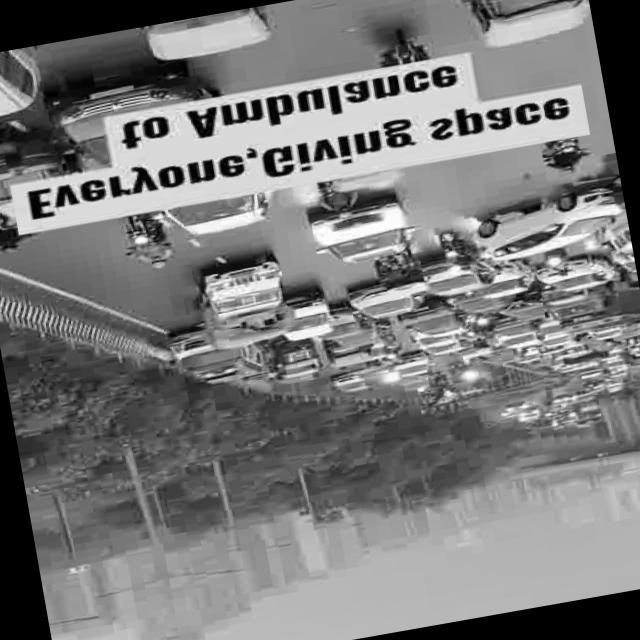ambulance: (160, 340, 268, 391)
